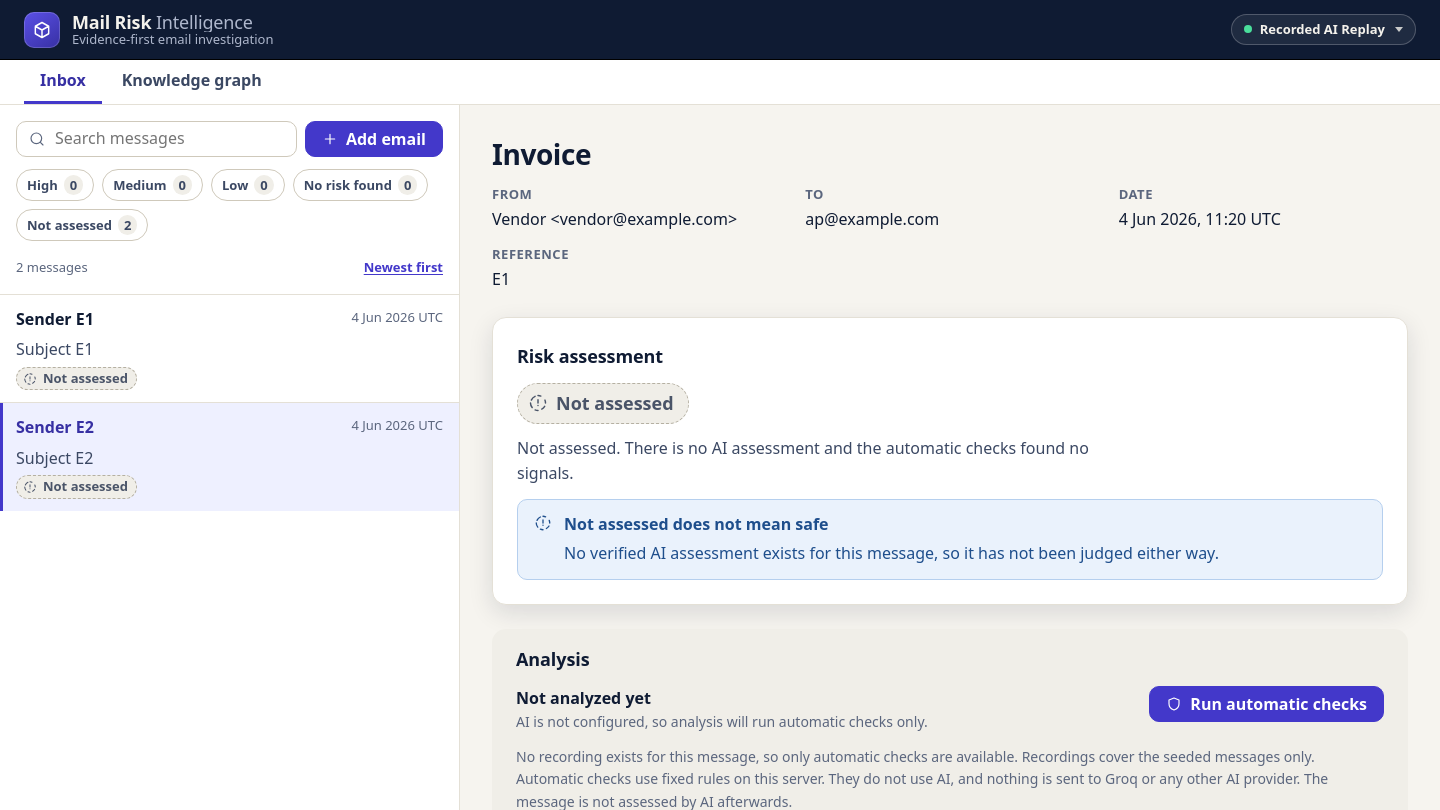
Test: header status wording › links to the README section on GitHub and says where else to find it
Click the button "Recorded AI Replay". click: (1323, 30)
box: [1231, 14, 1416, 45]
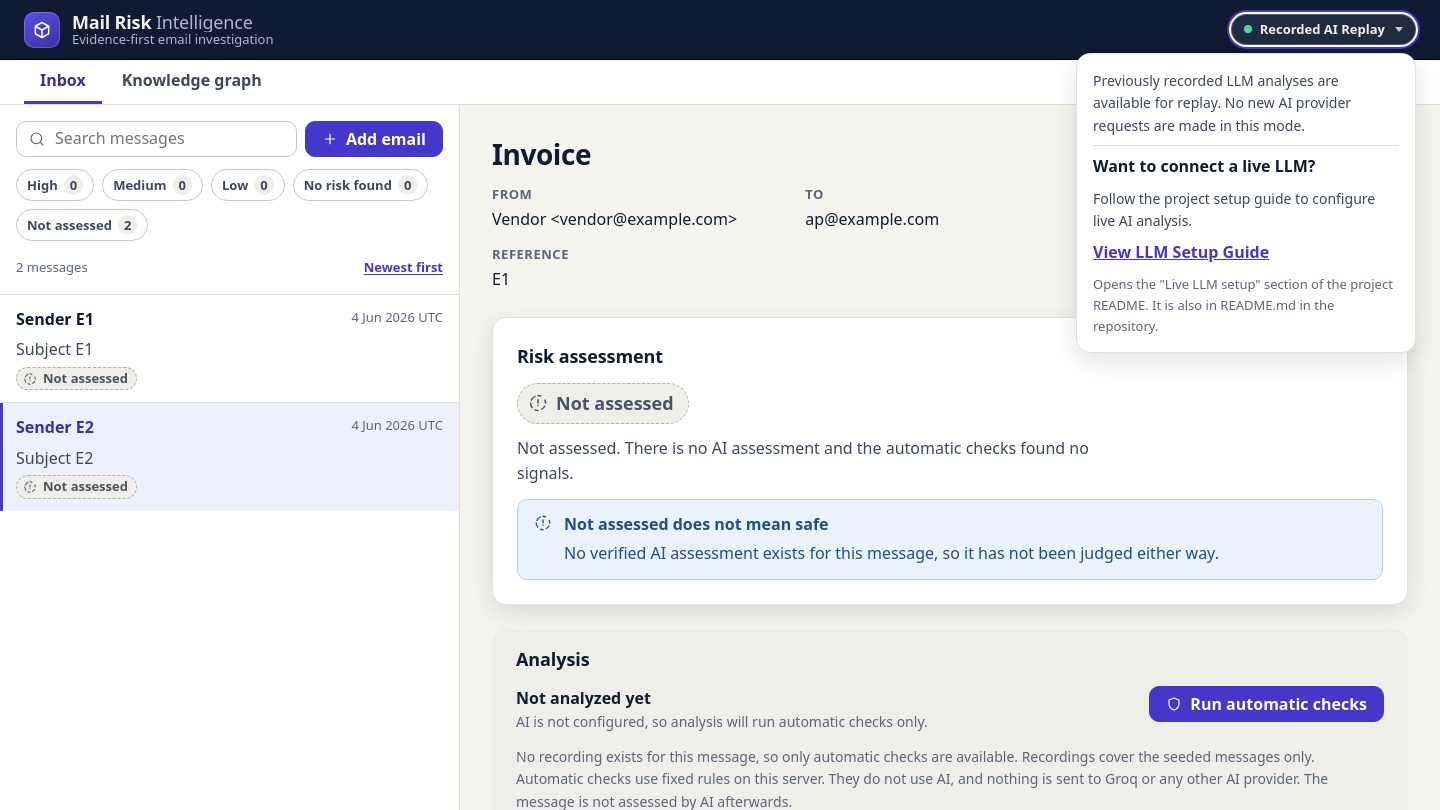
expect the text "also in README.md in the repository" is shown: met, box [1093, 275, 1393, 335]
